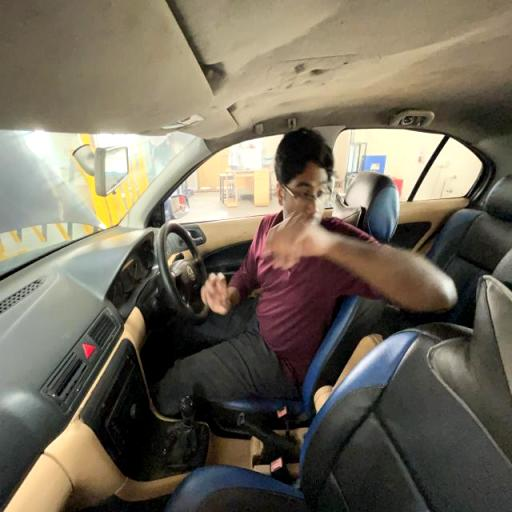Reaching_behind: (198, 126, 455, 387)
